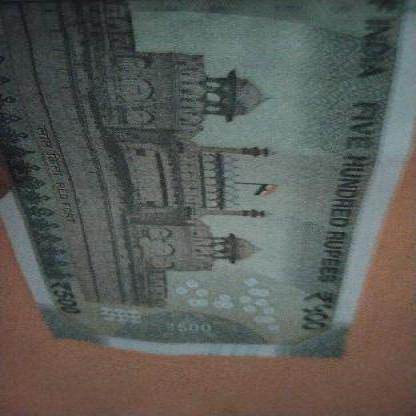New500Back: (0, 3, 415, 356)
